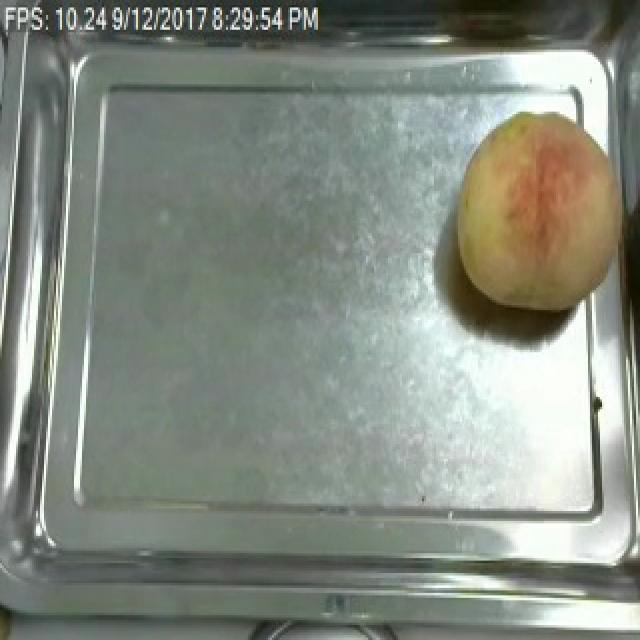Fruit: (448, 102, 634, 320)
